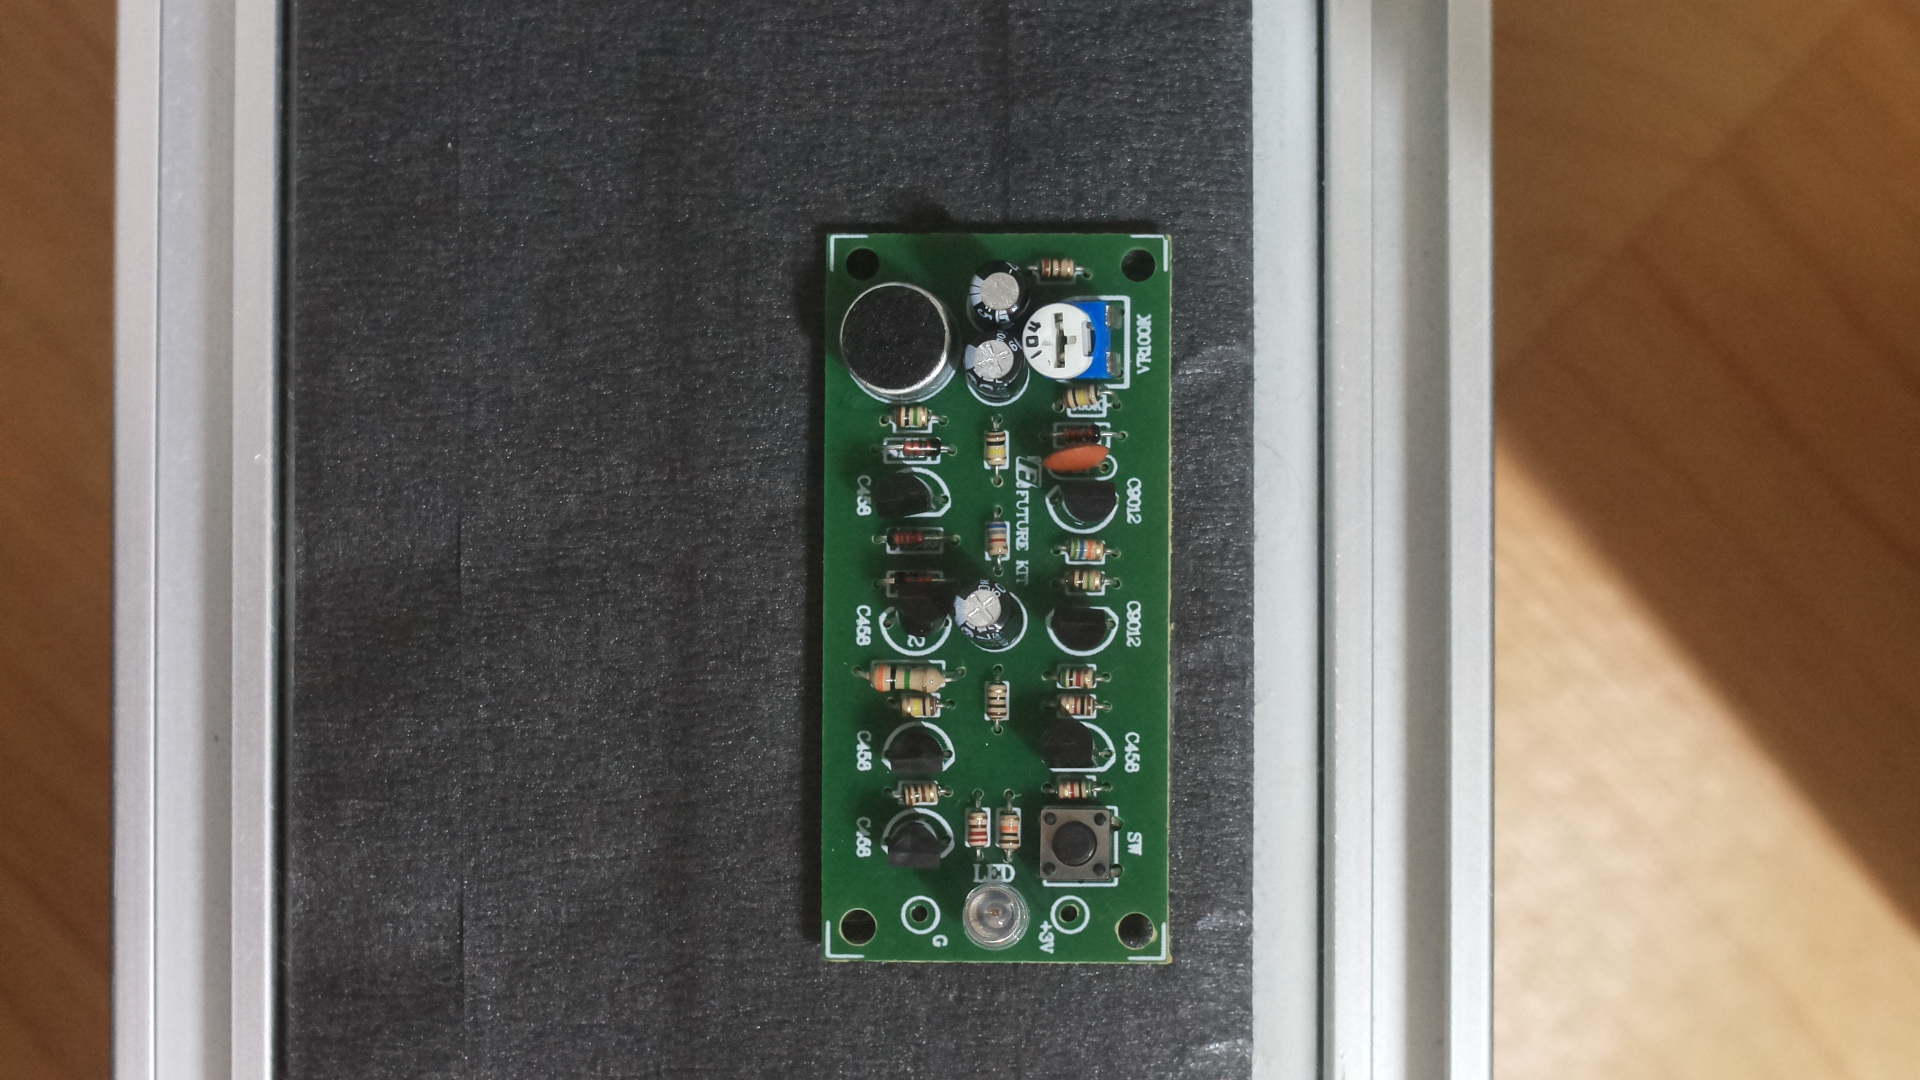A_Normal: (815, 208, 1185, 981)
